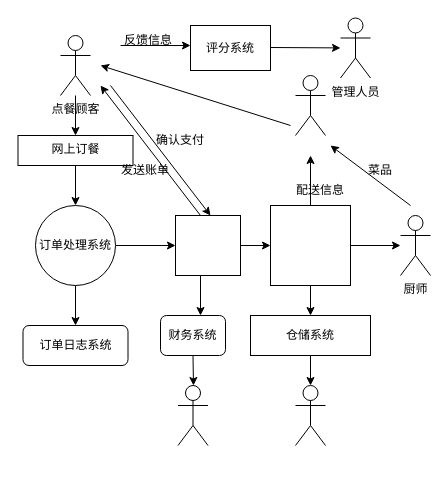
Some shapes in this 448 by 483 pixel diagram are drawn without their labels. The shapes that lost their labels are listed below. From the top down, each one's centre as x and y in pixels, then its label:
At pixel 310 105: "送餐人员".
At pixel 207 245: "订单确认 发送订单".
At pixel 310 245: "食堂系统".
At pixel 192 415: "财务人员".
At pixel 310 415: "食堂后勤人员".
